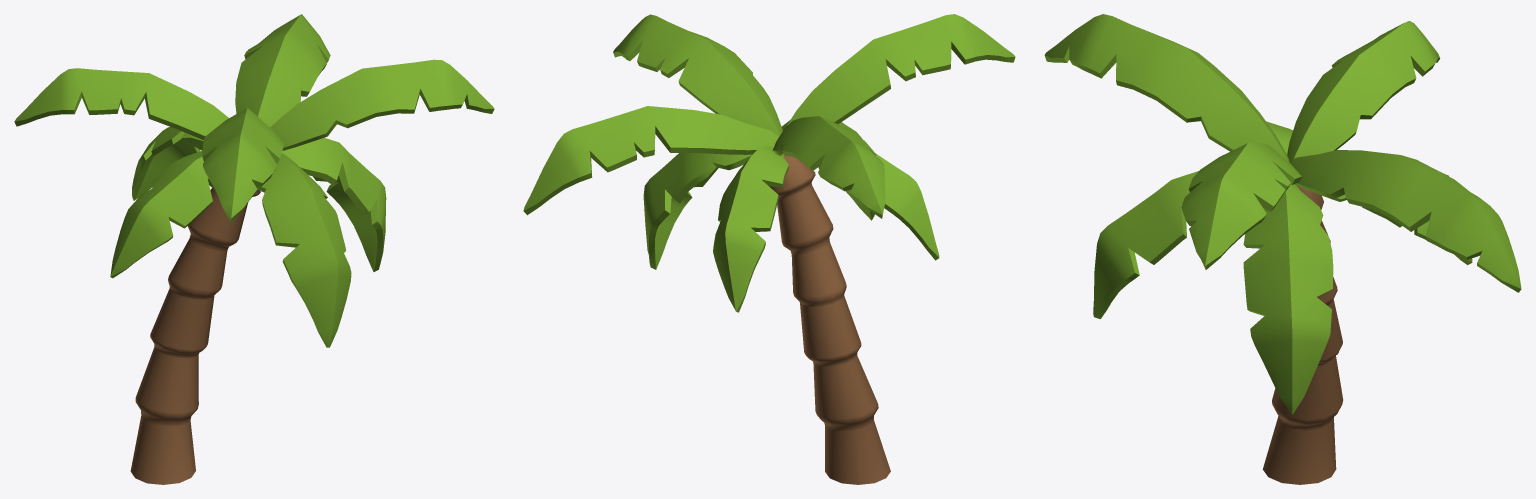
The model's file is jungle.glb.
The picture shows the model from 3 angles, left to right: view 1: azimuth 30°, elevation 25°; view 2: azimuth 150°, elevation 25°; view 3: azimuth 270°, elevation 25°; orthographic projection. The views are drawn at different scales.
Visible parts, largest first — view 1: Environment_PalmTree_2; view 2: Environment_PalmTree_2; view 3: Environment_PalmTree_2.
Boxes of the visible parts, bbox=[...] form: Environment_PalmTree_2: bbox=[14, 14, 494, 484]; Environment_PalmTree_2: bbox=[523, 14, 1015, 484]; Environment_PalmTree_2: bbox=[1044, 14, 1521, 484].
Size of the model in its own units: 2.64 by 2.69 by 2.58.
Materials: 1 (1 with a texture image).
